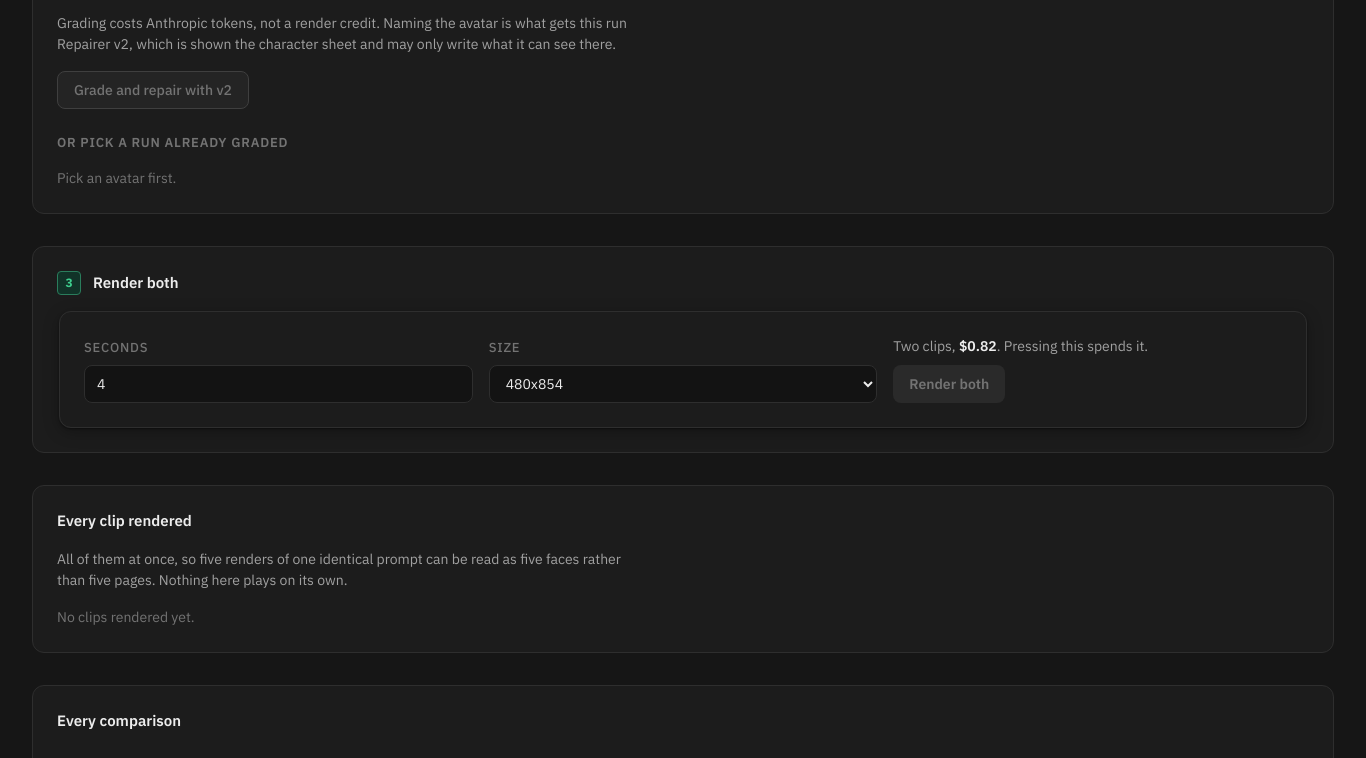
Test: step 3, render › derives the pair estimate from the controls and never hardcodes it
The image size is (1366, 758).
(page scrolled)
Check: the element with test id "pair-estimate" shows "$0.82", box [959,337,997,355]
Select "720x1280" in the dropdown labelled "Size" at (683, 384), box [489,365,877,403]
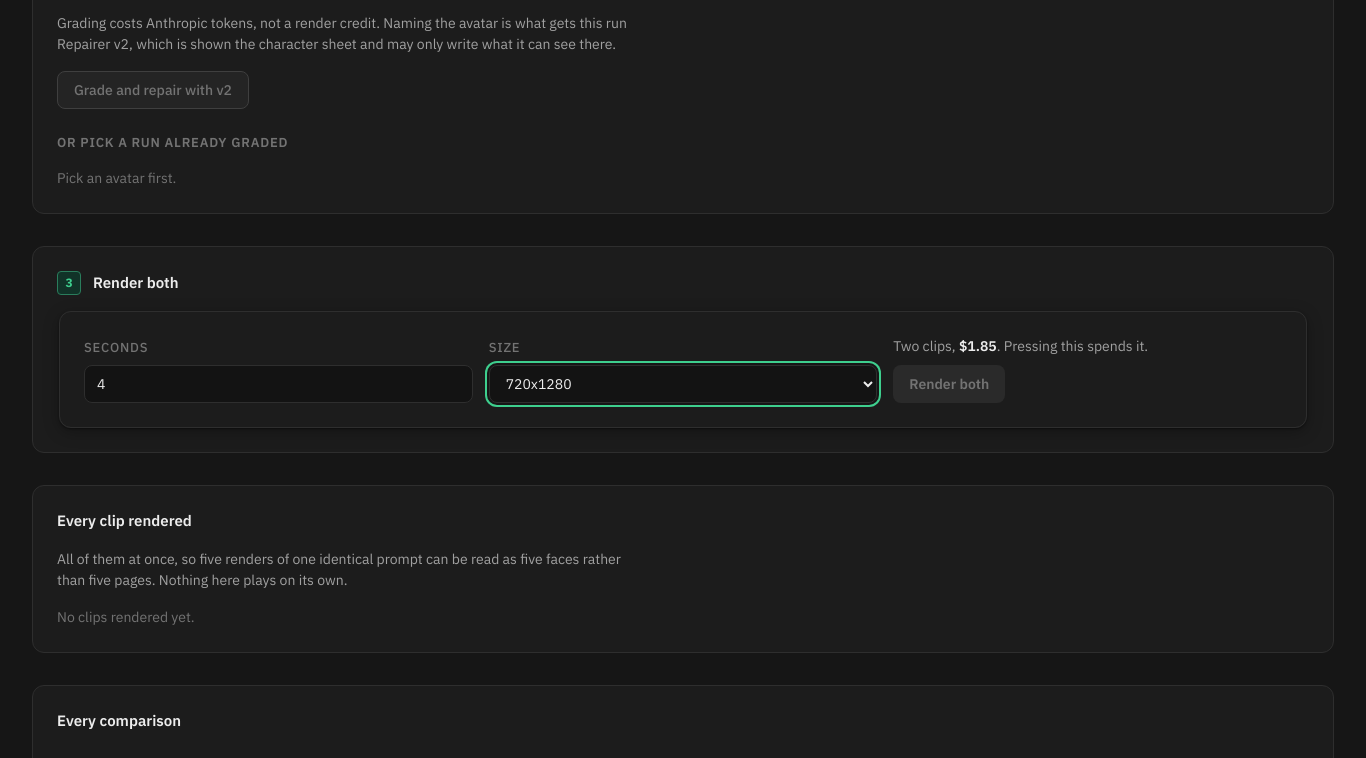
Check: the element with test id "pair-estimate" shows "$1.85", box [959,337,997,355]
